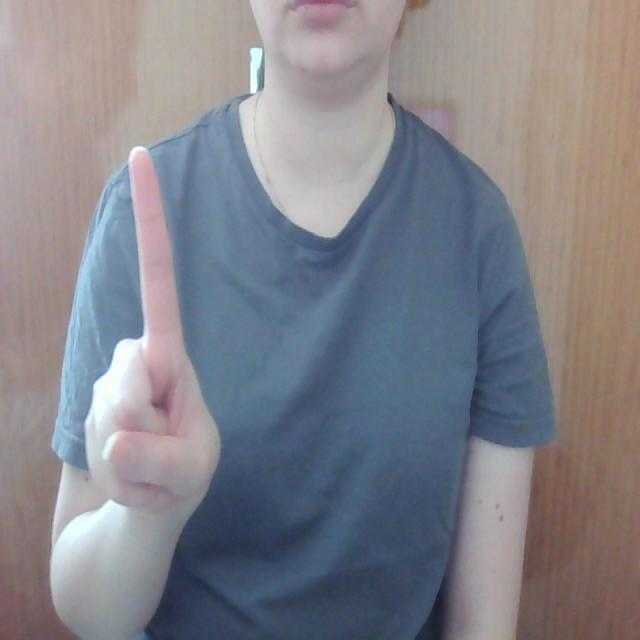Hayir: (76, 129, 233, 531)
